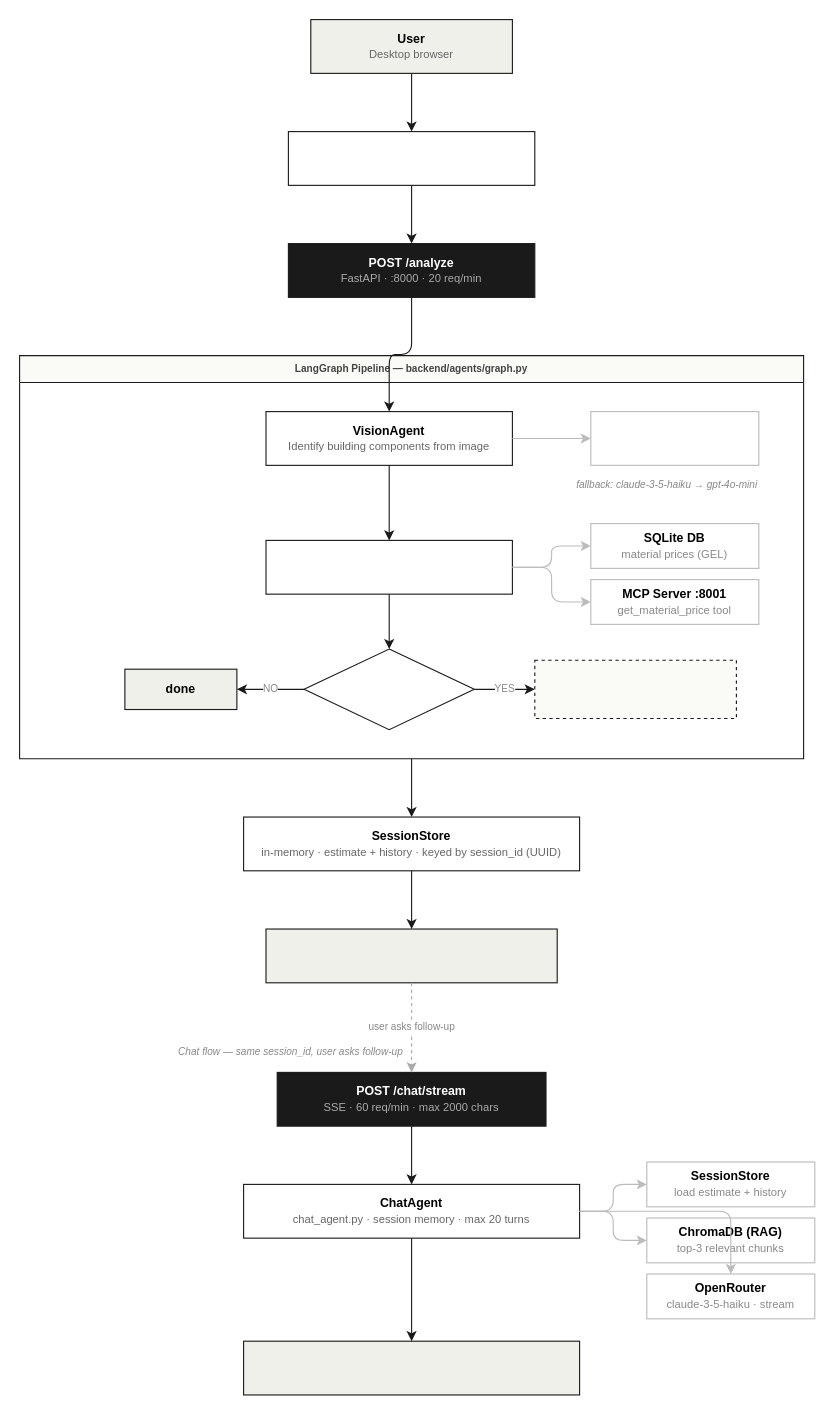
Some shapes in this 834 by 1415 pixel diagram are drawn without their labels. The shapes that lost their labels are listed below. From the top down, each one's centre as x and y in pixels, then its label:
the point at 411,157: Next.js 14 Frontend localhost:3000
the point at 674,437: OpenRouter gemini-2.5-flash
the point at 388,566: EstimationAgent Price each component · add 35% labor
the point at 388,689: > 500k GEL?
the point at 635,688: HumanReview node append warning note approval_required = true
the point at 411,955: Itemized Cost Report Displayed in browser · line items + grand total GEL
the point at 411,1367: Streaming Response SSE tokens to browser in real-time · ends with [DONE]
